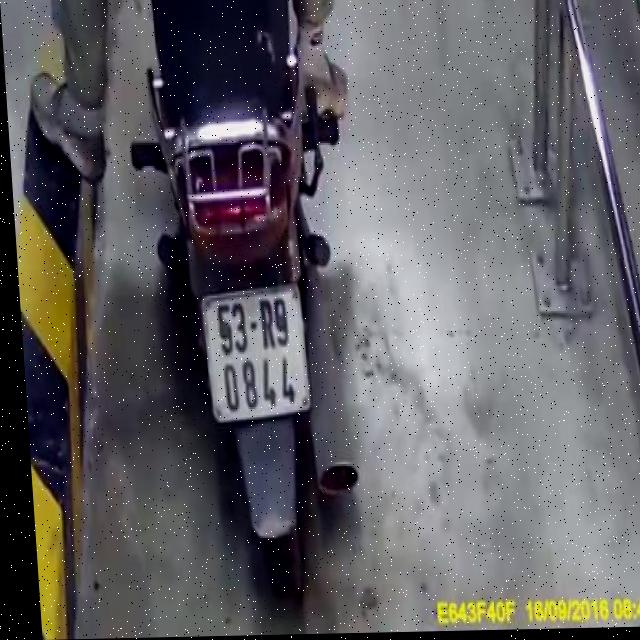motorcycle: (119, 0, 383, 600)
plate: (197, 285, 320, 429)
